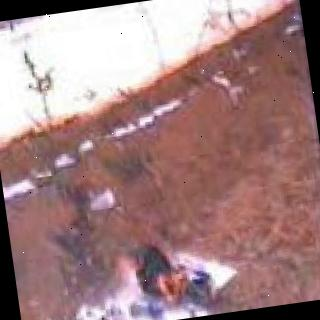fire: (115, 240, 209, 320)
